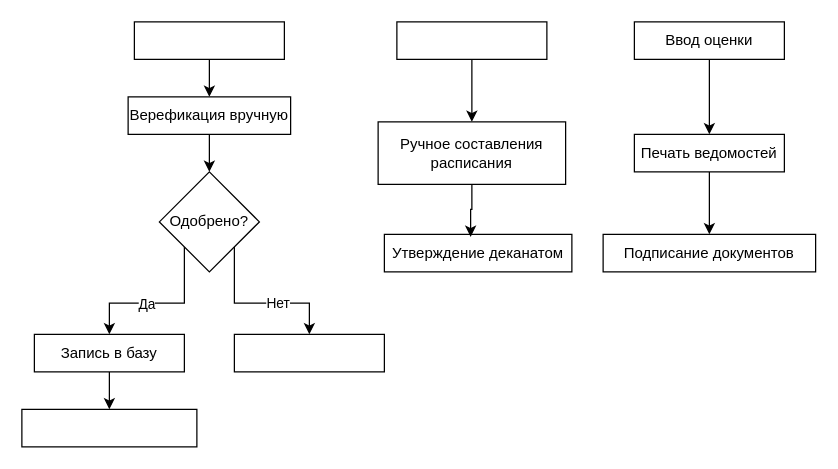
Some shapes in this 838 by 469 pixel diagram are drawn without their labels. Here are the shapes that lost their labels. From the top down, the centre of each, then its label:
At point 208,40: "Подача документов".
At point 471,40: "Сбор данных".
At point 308,352: "Отказ".
At point 109,427: "Формирование приказа".
